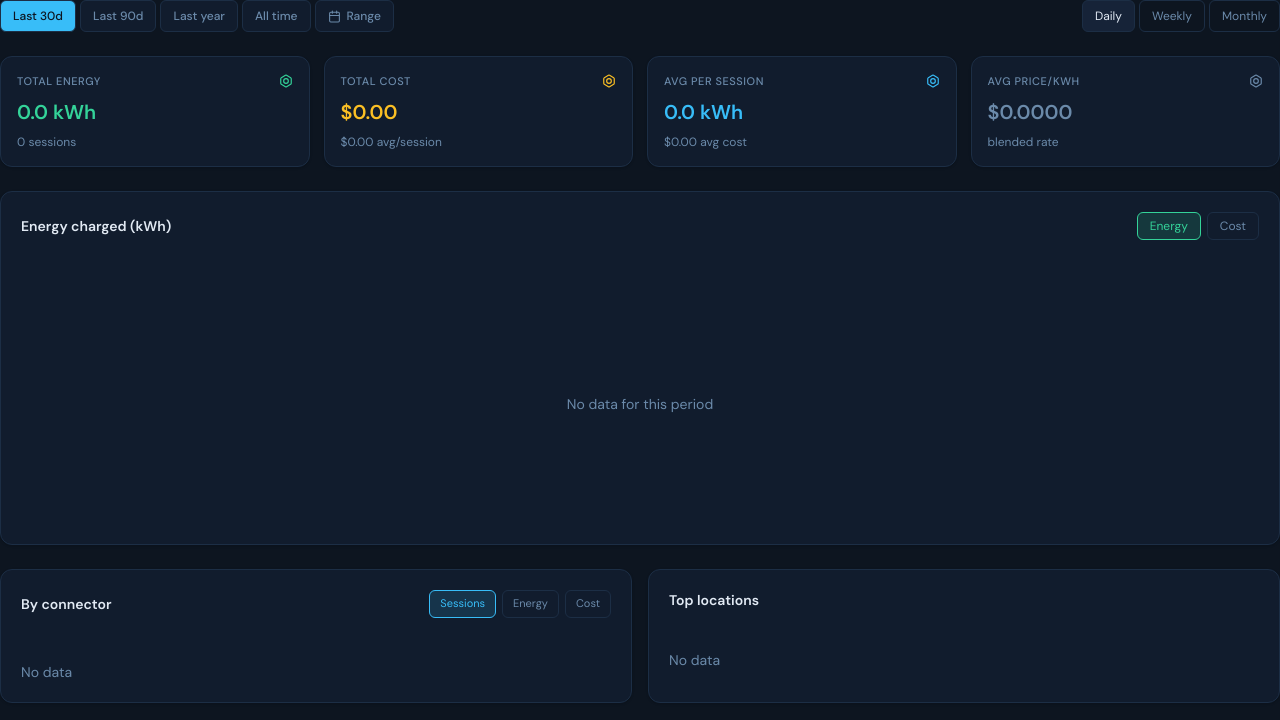
Scenario: SummaryPage › opens a two-month range calendar with status and clear controls
Click the button "Range" at (354, 16), box [314, 0, 394, 32]
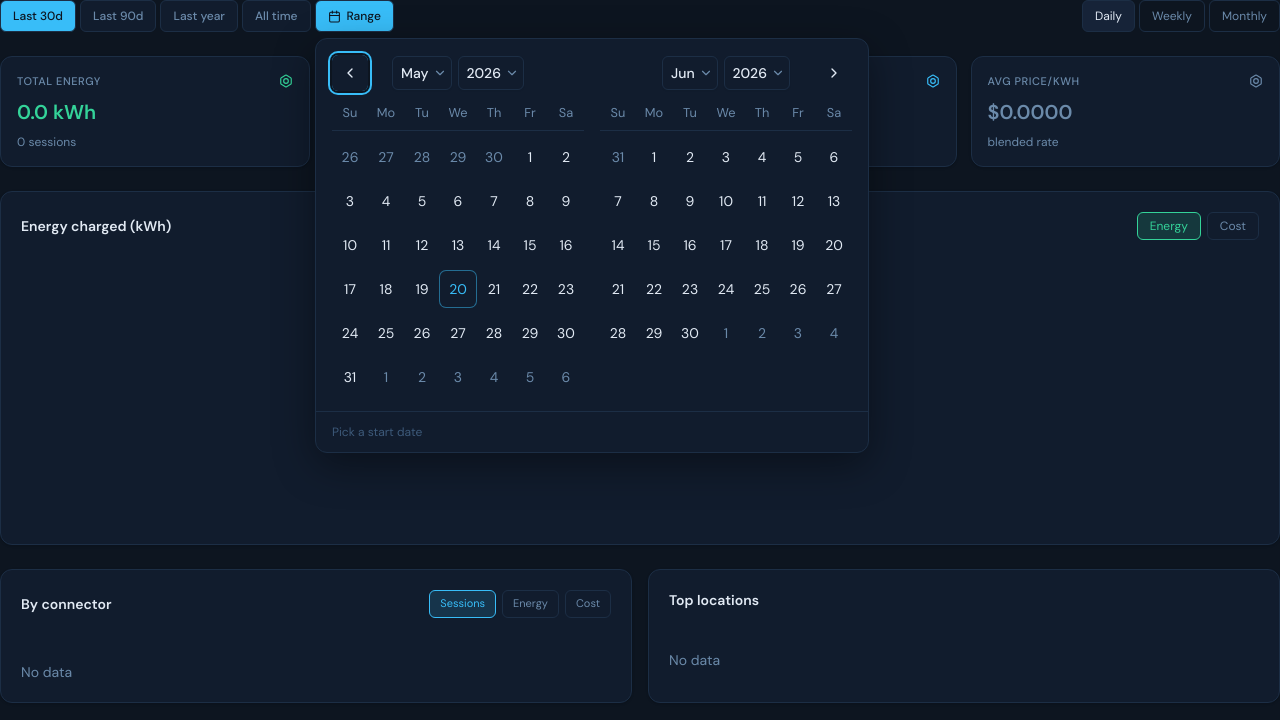
Now the text "Pick a start date" is shown, box [332, 424, 422, 440]
